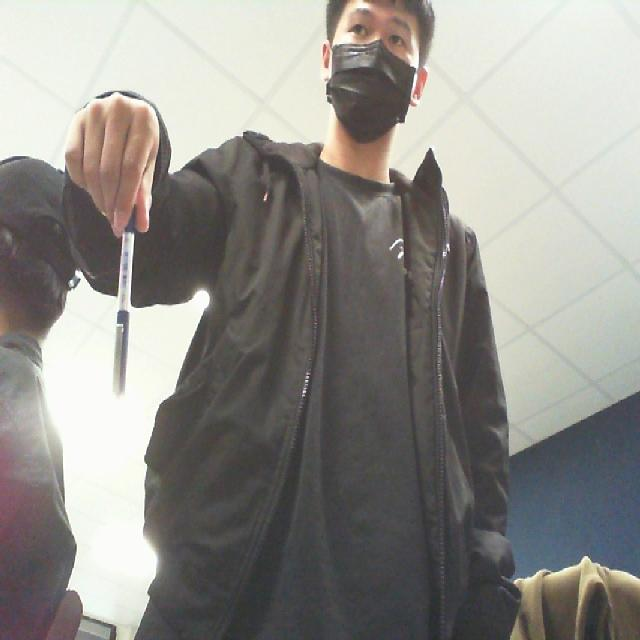Pen: (100, 194, 146, 431)
